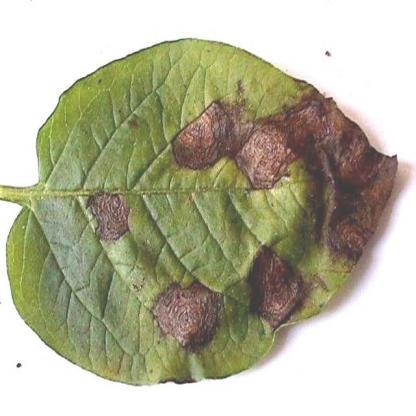Potato leaf late blight: (4, 33, 401, 393)
